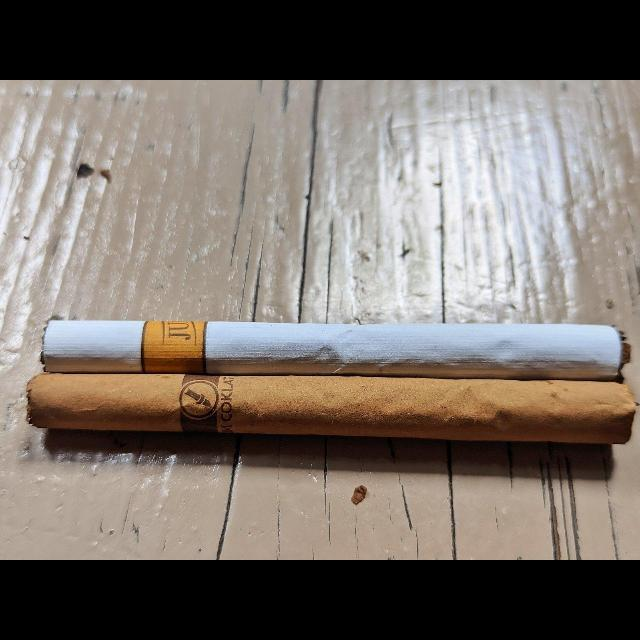rokok: (21, 368, 640, 450), (41, 311, 637, 385)
